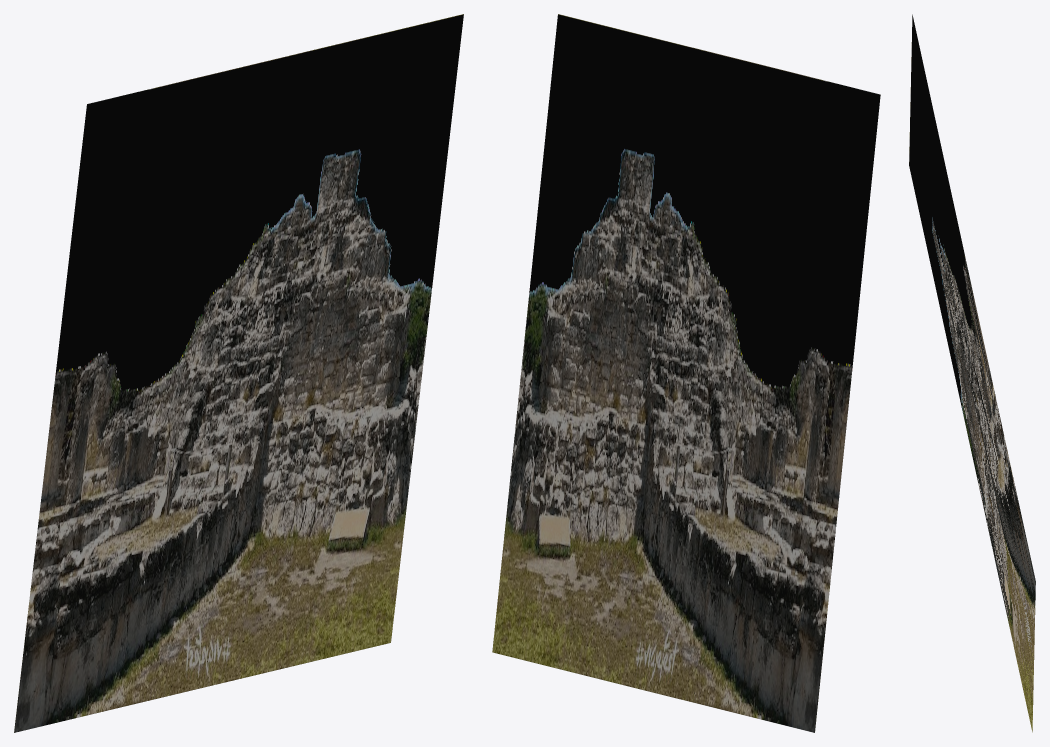
File: ElRey.glb
The picture shows the model from 3 angles, left to right: view 1: azimuth 30°, elevation 25°; view 2: azimuth 150°, elevation 25°; view 3: azimuth 270°, elevation 25°; orthographic projection. The views are drawn at different scales.
Visible parts, largest first — view 1: Mesh_0.006; view 2: Mesh_0.006; view 3: Mesh_0.006.
Part boxes in pixels (left/top/right/bottom): Mesh_0.006: left=14, top=14, right=463, bottom=732; Mesh_0.006: left=492, top=14, right=880, bottom=732; Mesh_0.006: left=909, top=14, right=1035, bottom=732.
Bounding box in the file's own units: 11.3 × 19.63 × 3.98.
1 material, 1 textured.
